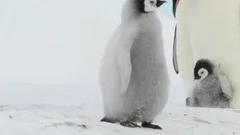Emperor Penguin: (159, 0, 240, 120)
